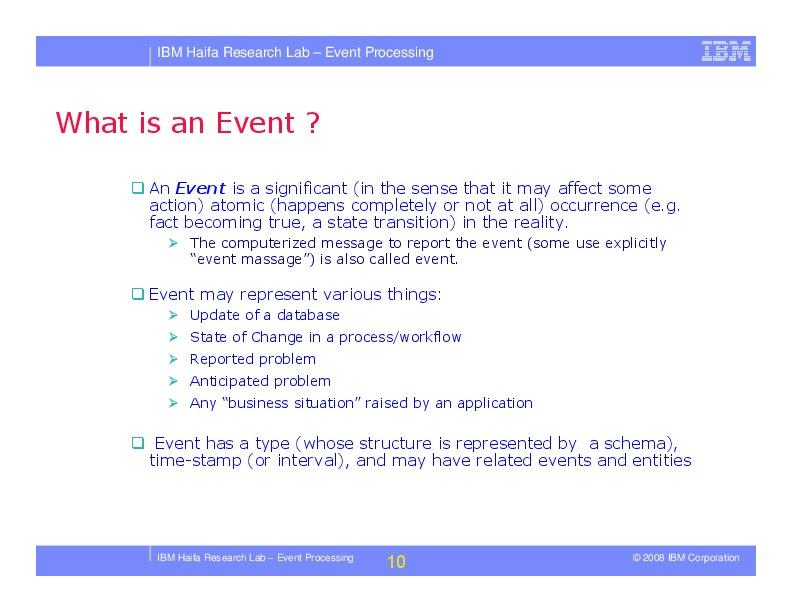paragraph: (128, 158, 746, 498)
title: (59, 97, 339, 145)
